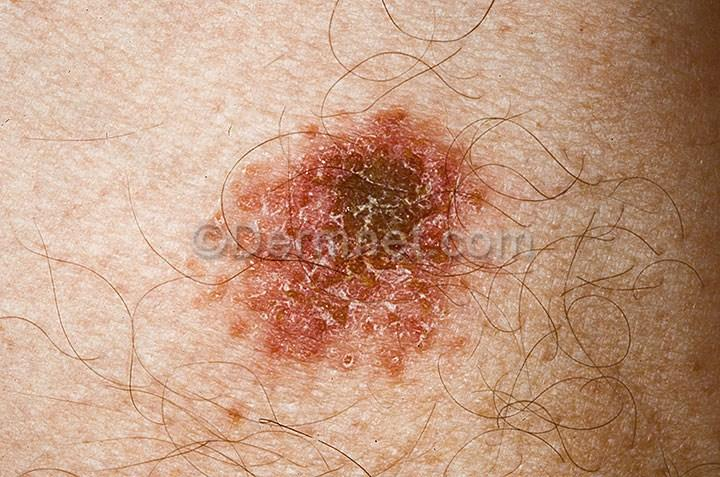Eczema: (167, 54, 520, 402)
